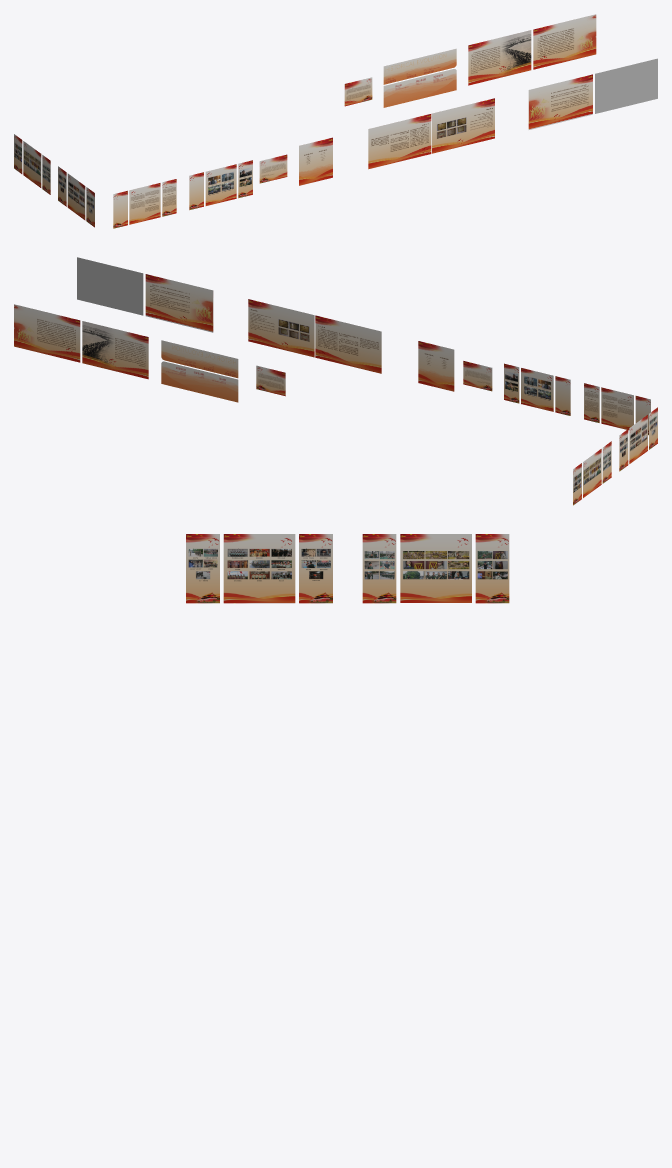
The picture shows the model from 3 angles, top to bottom: view 1: azimuth 30°, elevation 25°; view 2: azimuth 150°, elevation 25°; view 3: azimuth 270°, elevation 25°; orthographic projection. The views are drawn at different scales.
Parts seen in each view (by area): view 1: 10中队_发展历程04, 10中队_发展历程01, 10中队_发展历程02, 10中队_历史荣誉02, 10中队_历史荣誉01, 10中队_发展历程03, 10中队_历史沿革下, 10中队_历史沿革上, 10中队_历任主官, 10中队_建设成就中, 10中队_重大任务中, 10中队_军营文化中 (+7 smaller); view 2: 10中队_发展历程04, 10中队_发展历程01, 10中队_发展历程02, 10中队_历史荣誉01, 10中队_历史荣誉02, 10中队_发展历程03, 10中队_历史沿革下, 10中队_历任主官, 10中队_历史沿革上, 10中队_重大任务中, 10中队_建设成就中, 10中队_前沿 (+6 smaller); view 3: 10中队_军营文化中, 10中队_官兵风采中, 10中队_官兵风采右, 10中队_官兵风采左, 10中队_军营文化右, 10中队_军营文化左.
Boxes of the visible parts, x1,y1,x2,y2 form: 10中队_发展历程04: (528, 74, 592, 129); 10中队_发展历程01: (468, 30, 531, 85); 10中队_发展历程02: (533, 14, 596, 69); 10中队_历史荣誉02: (368, 114, 431, 169); 10中队_历史荣誉01: (432, 98, 494, 153); 10中队_发展历程03: (595, 58, 657, 113); 10中队_历史沿革下: (383, 69, 456, 107); 10中队_历史沿革上: (383, 48, 456, 84); 10中队_历任主官: (299, 137, 332, 185); 10中队_建设成就中: (129, 183, 160, 224); 10中队_重大任务中: (205, 164, 236, 205); 10中队_军营文化中: (67, 173, 85, 220); 10中队_发展历程04: (145, 274, 213, 332); 10中队_发展历程01: (82, 321, 148, 379); 10中队_发展历程02: (14, 304, 80, 362); 10中队_历史荣誉01: (248, 299, 314, 357); 10中队_历史荣誉02: (315, 315, 381, 373); 10中队_发展历程03: (77, 257, 143, 315); 10中队_历史沿革下: (161, 361, 238, 402); 10中队_历任主官: (418, 341, 454, 391); 10中队_历史沿革上: (161, 340, 238, 378); 10中队_重大任务中: (521, 368, 553, 411); 10中队_建设成就中: (601, 387, 633, 430); 10中队_前沿: (256, 365, 285, 396); 10中队_军营文化中: (223, 534, 295, 603); 10中队_官兵风采中: (400, 534, 471, 602); 10中队_官兵风采右: (475, 534, 509, 603); 10中队_官兵风采左: (362, 534, 396, 603); 10中队_军营文化右: (299, 534, 332, 603); 10中队_军营文化左: (186, 534, 219, 603).
Size of the model in its own units: 2790 by 200 by 751.
